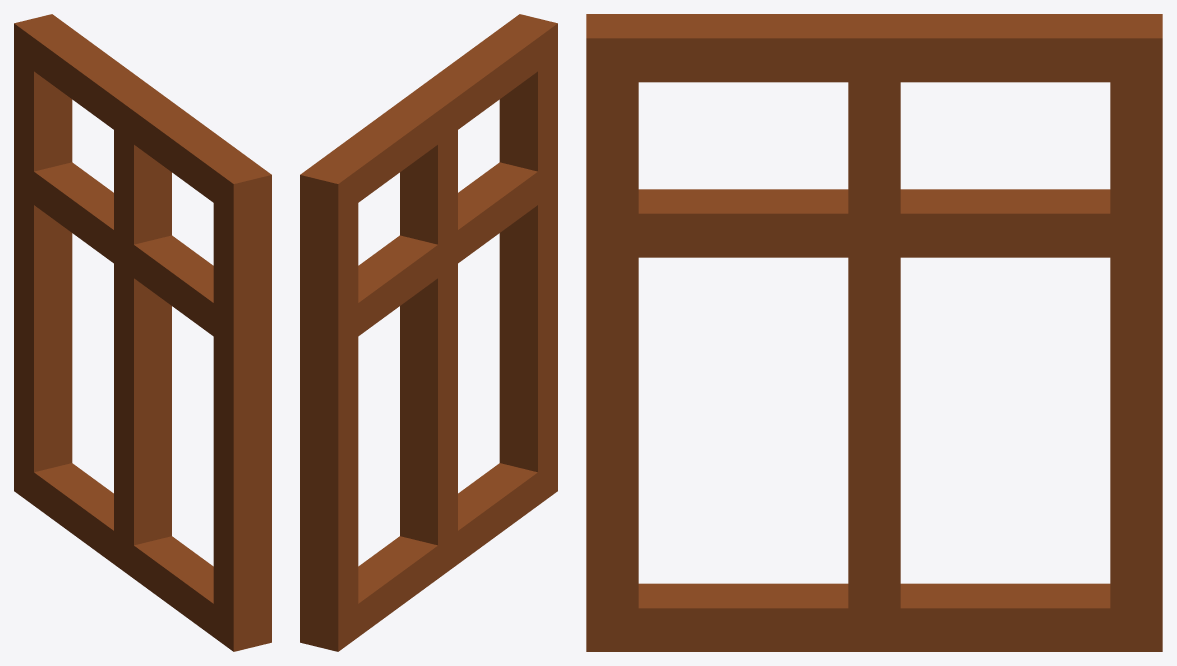
The model's file is SmallWindow.fbx.
3 views of the same model, side by side, from view 1: azimuth 30°, elevation 25°; view 2: azimuth 150°, elevation 25°; view 3: azimuth 270°, elevation 25° (orthographic). The views are drawn at different scales.
Visible parts, largest first — view 1: Smallest Window; view 2: Smallest Window; view 3: Smallest Window.
Part boxes in pixels (x1,y1,x2,y2): Smallest Window: (14,14,271,651); Smallest Window: (300,14,557,651); Smallest Window: (586,14,1162,651).
Bounding box in the file's own units: 30 × 351 × 299.
